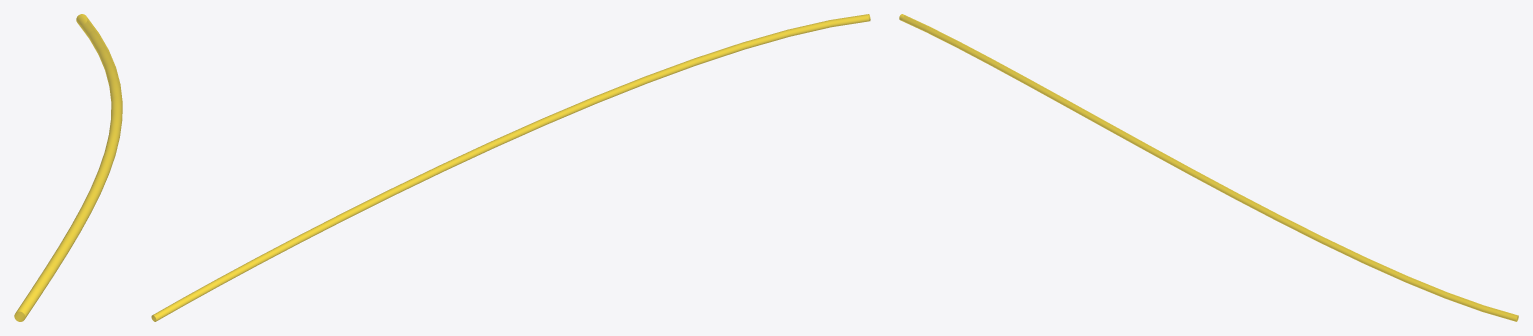
The model's file is Event_27938768_track_72.fbx.
The picture shows the model from 3 angles, left to right: view 1: azimuth 90°, elevation 25°; view 2: azimuth 210°, elevation 25°; view 3: azimuth 330°, elevation 25°; orthographic projection. The views are drawn at different scales.
Parts seen in each view (by area): view 1: Model; view 2: Model; view 3: Model.
Part boxes in pixels (x1,y1,x2,y2): Model: (14,14,122,321); Model: (151,14,870,321); Model: (899,14,1518,321).
Bounding box in the file's own units: 4.34 × 0.9096 × 0.3802.
